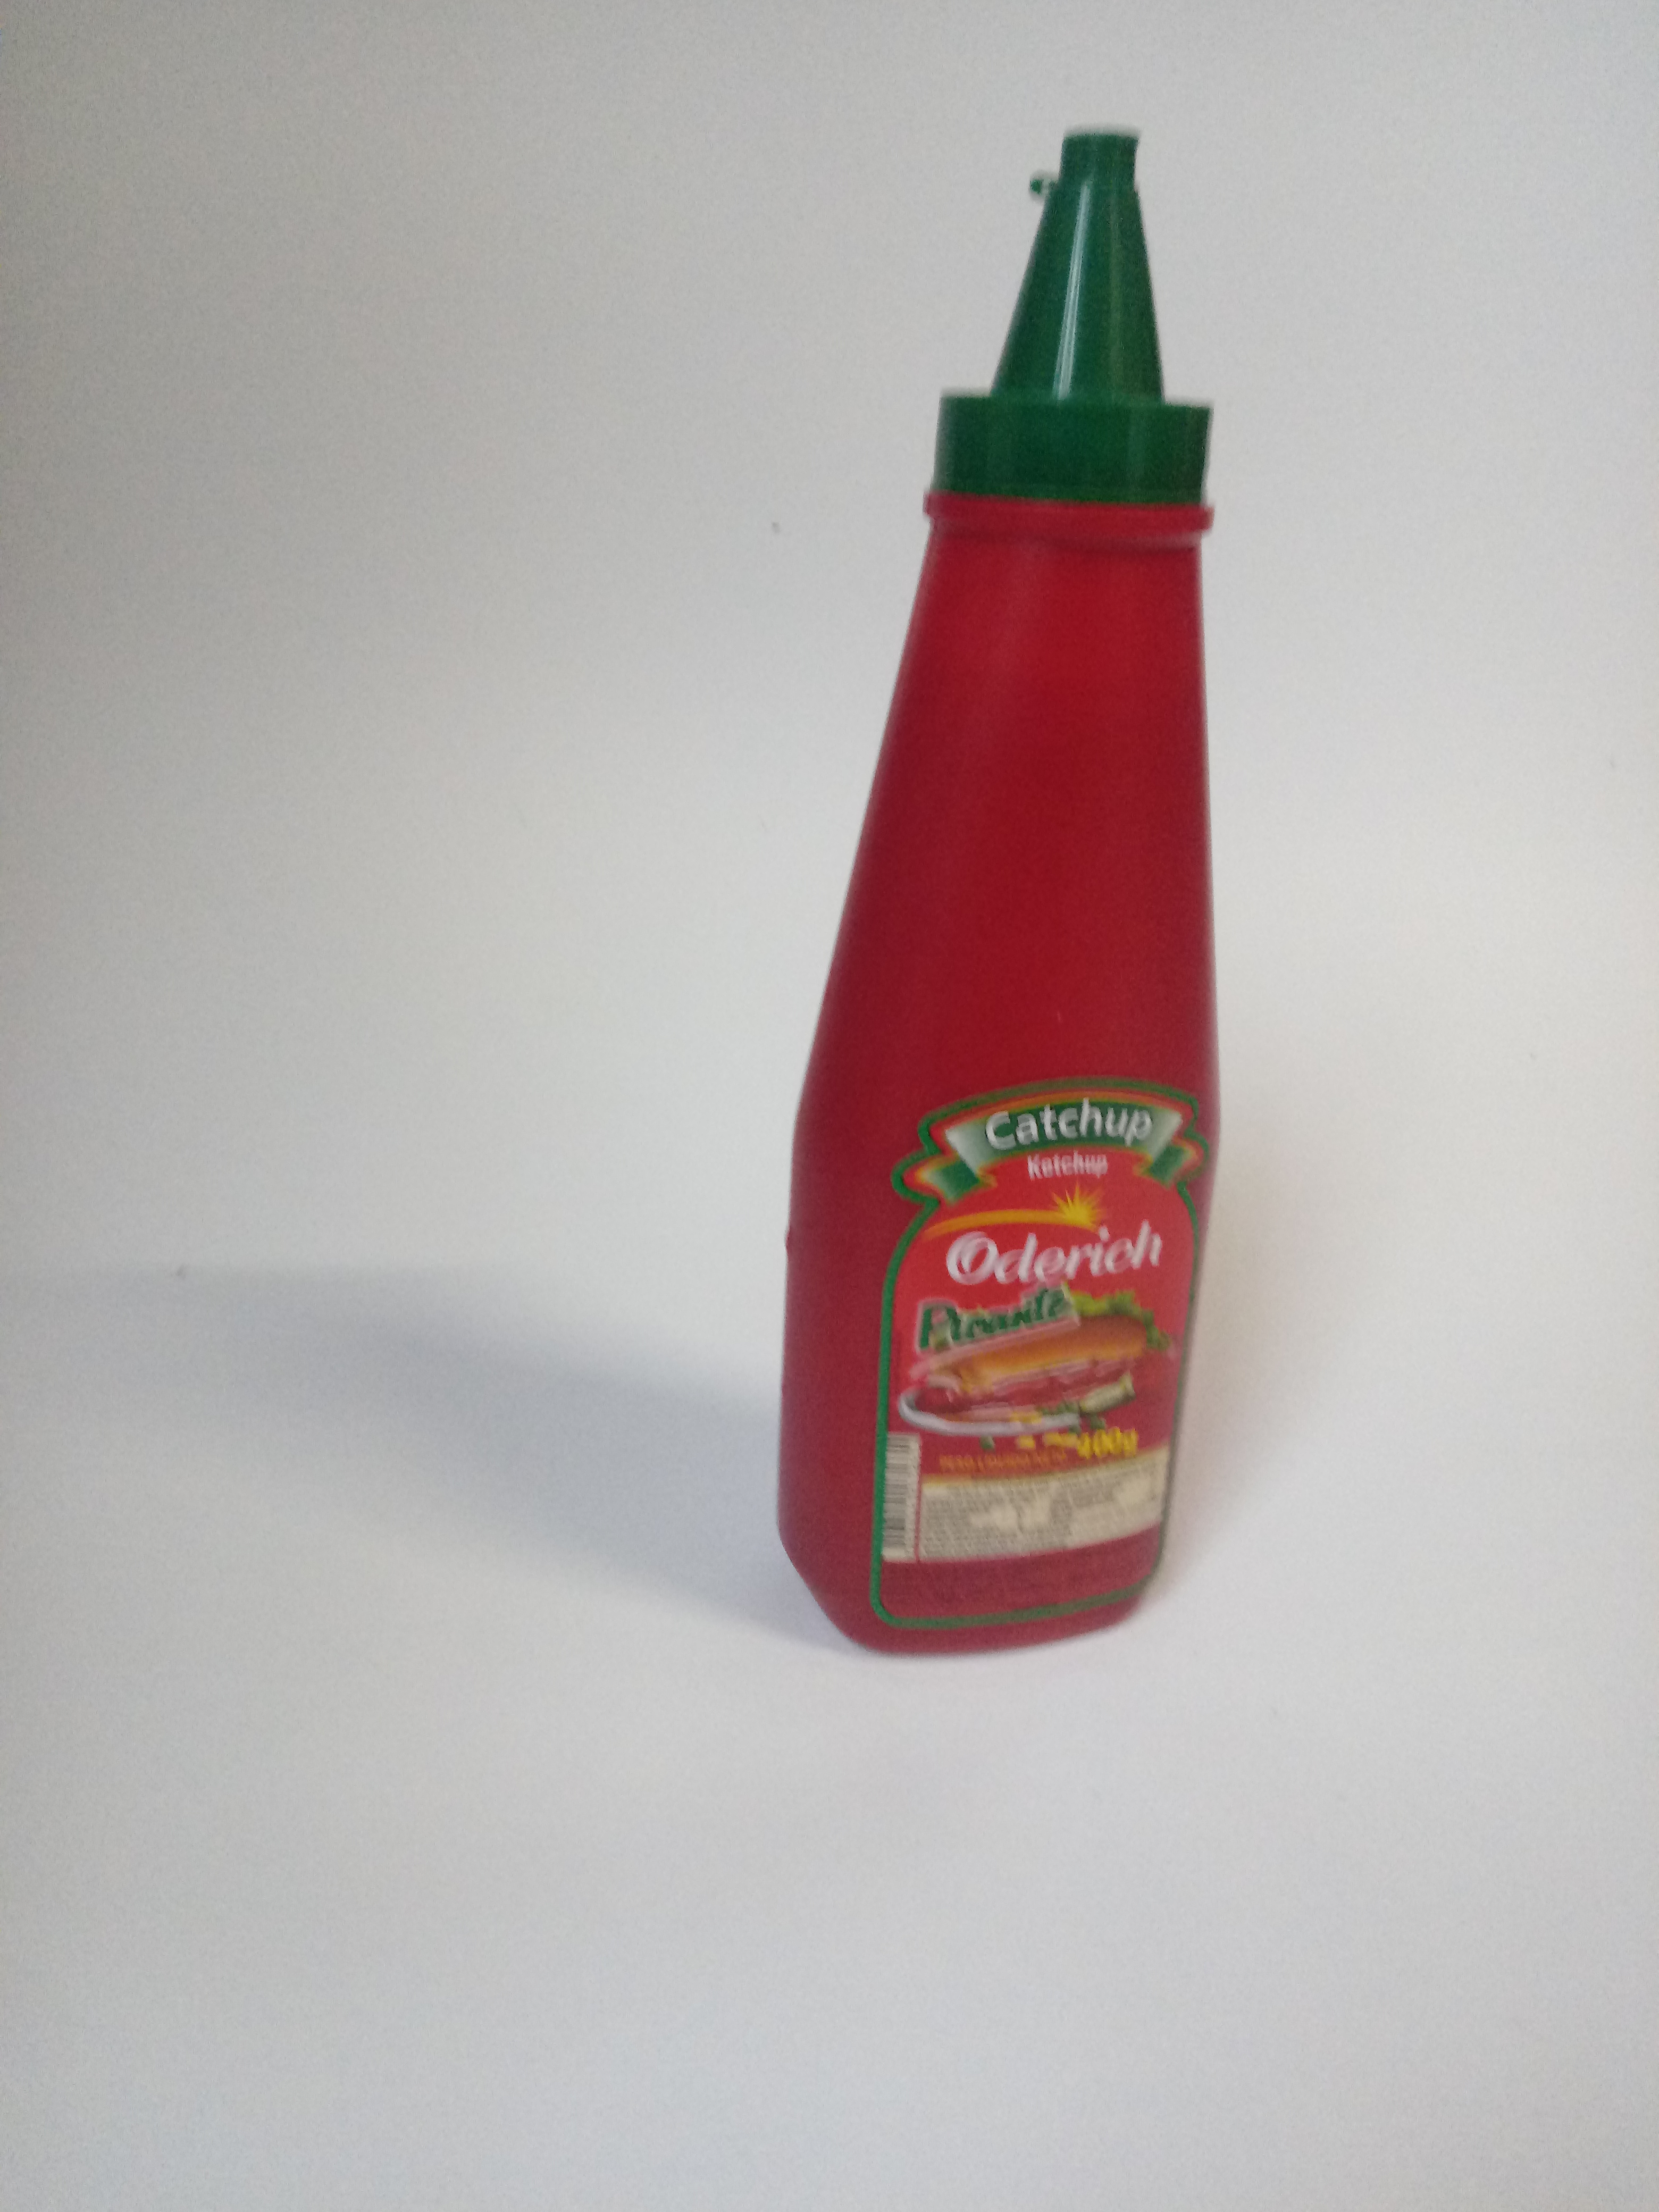catchup-oderich: (725, 78, 1222, 1672)
